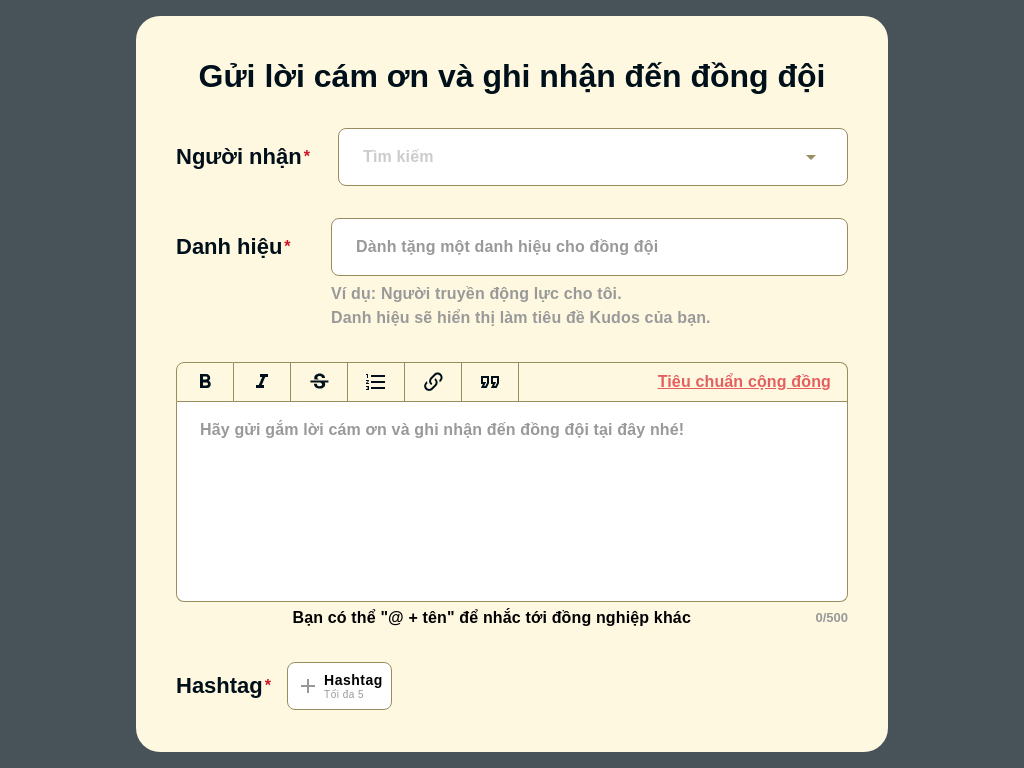
WriteKudosModal › deselects a recipient via the clear control (H-2)
The image size is (1024, 768).
Type "Huỳnh" into the field named "Người nhận" at (577, 157), box [363,145,791,169]
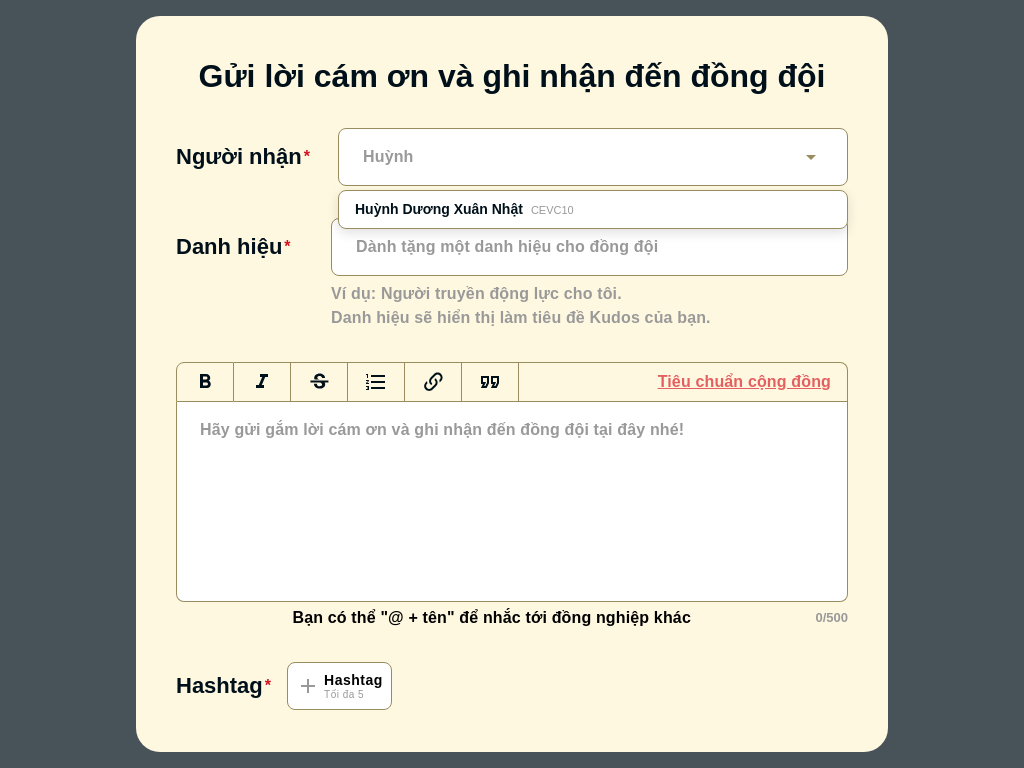
Click the button "Huỳnh Dương Xuân Nhật" at (439, 209), box [339,191,847,228]
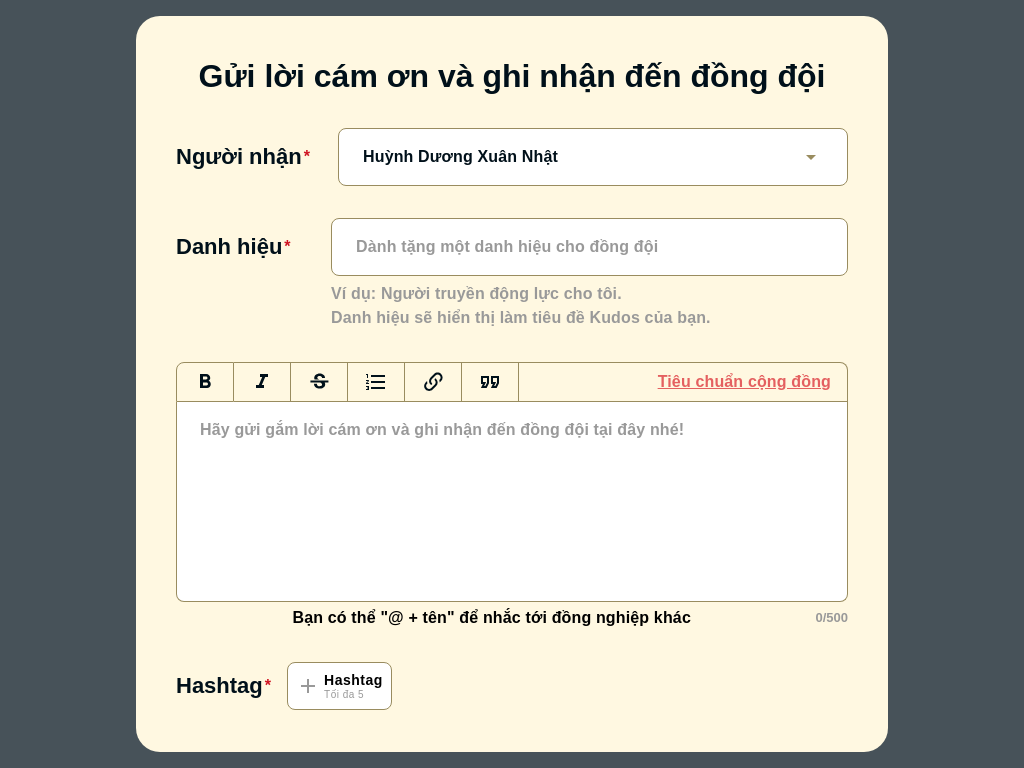
Now the field named "Người nhận" holds "Huỳnh Dương Xuân Nhật", box [363,145,791,169]
Click the button named "Clear recipient" at (811, 157), box [799,145,823,169]
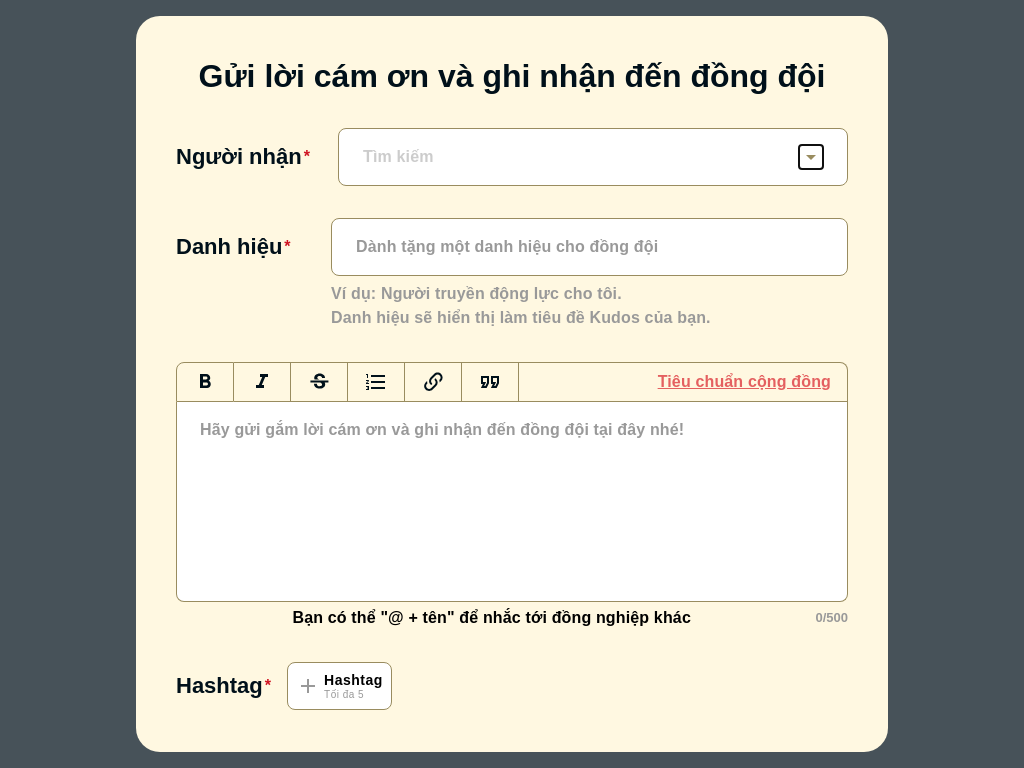
Now the field named "Người nhận" is empty, box [363,145,791,169]
